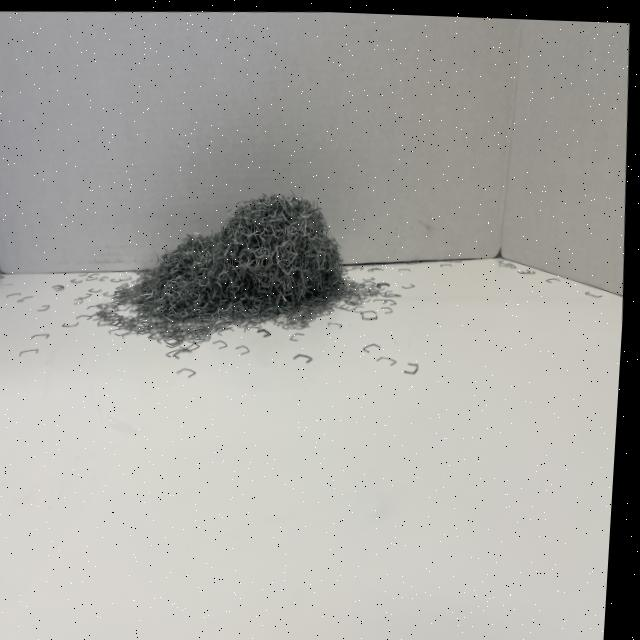staples: (92, 180, 355, 341)
